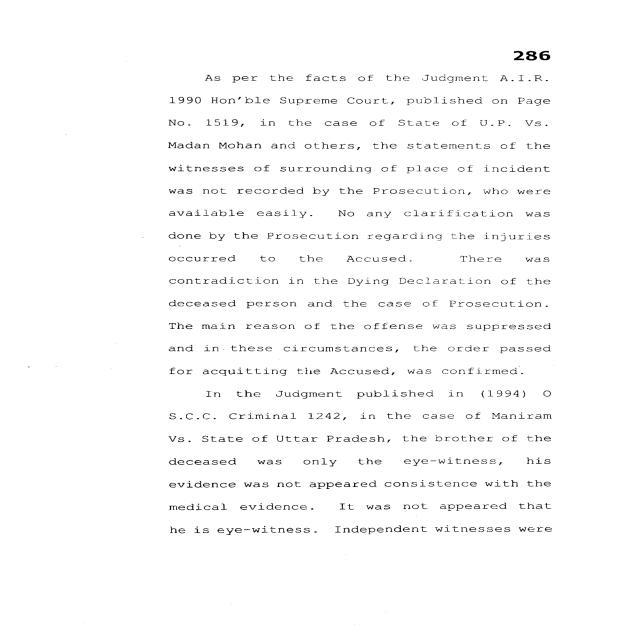page-number: (427, 2, 634, 69)
